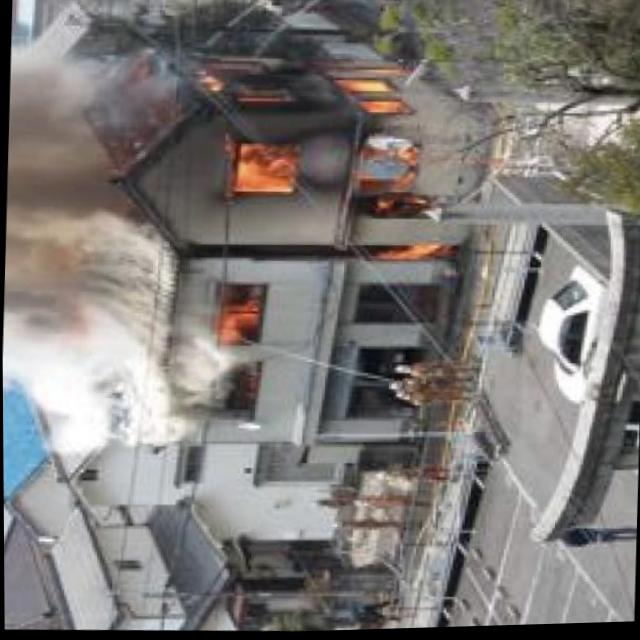Fire: (176, 51, 454, 286), (208, 290, 266, 424)
